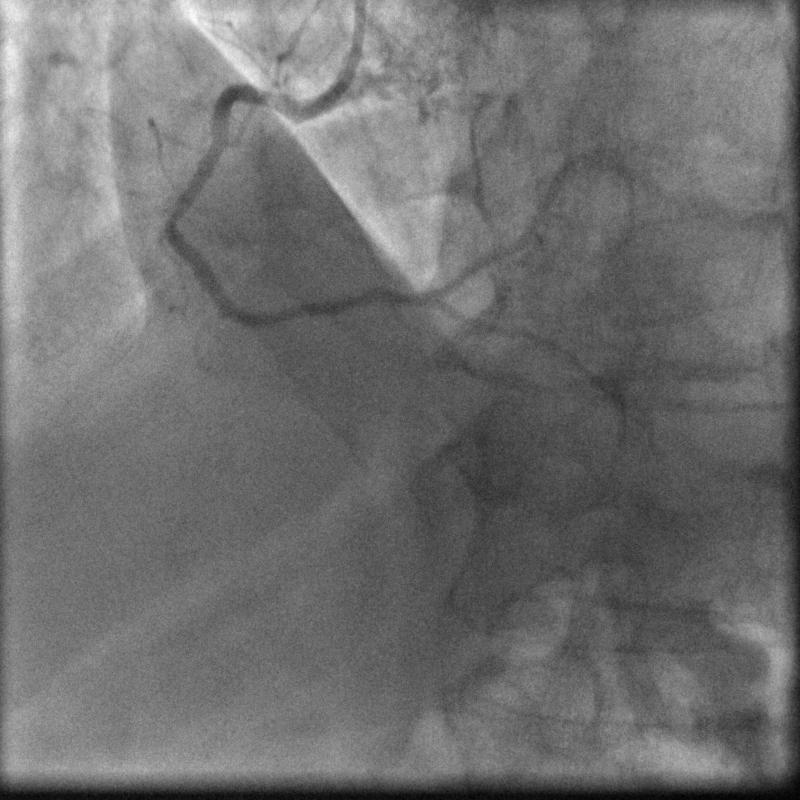Stenosis: (163, 203, 182, 225)
